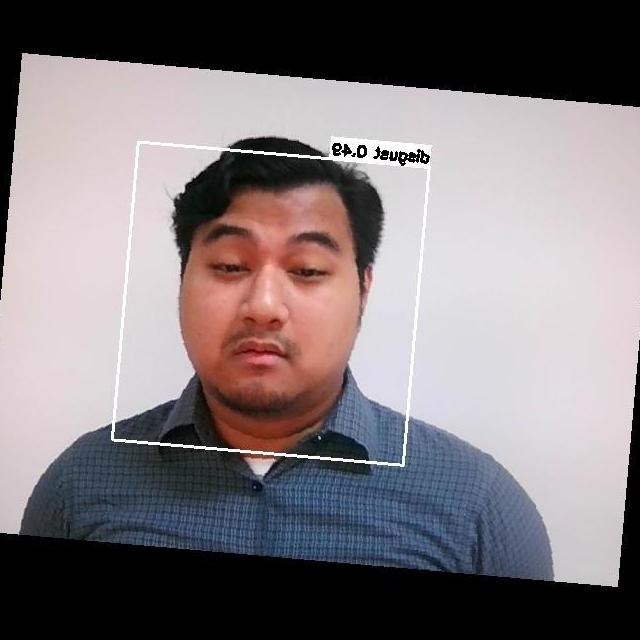Fear: (160, 181, 373, 419)
